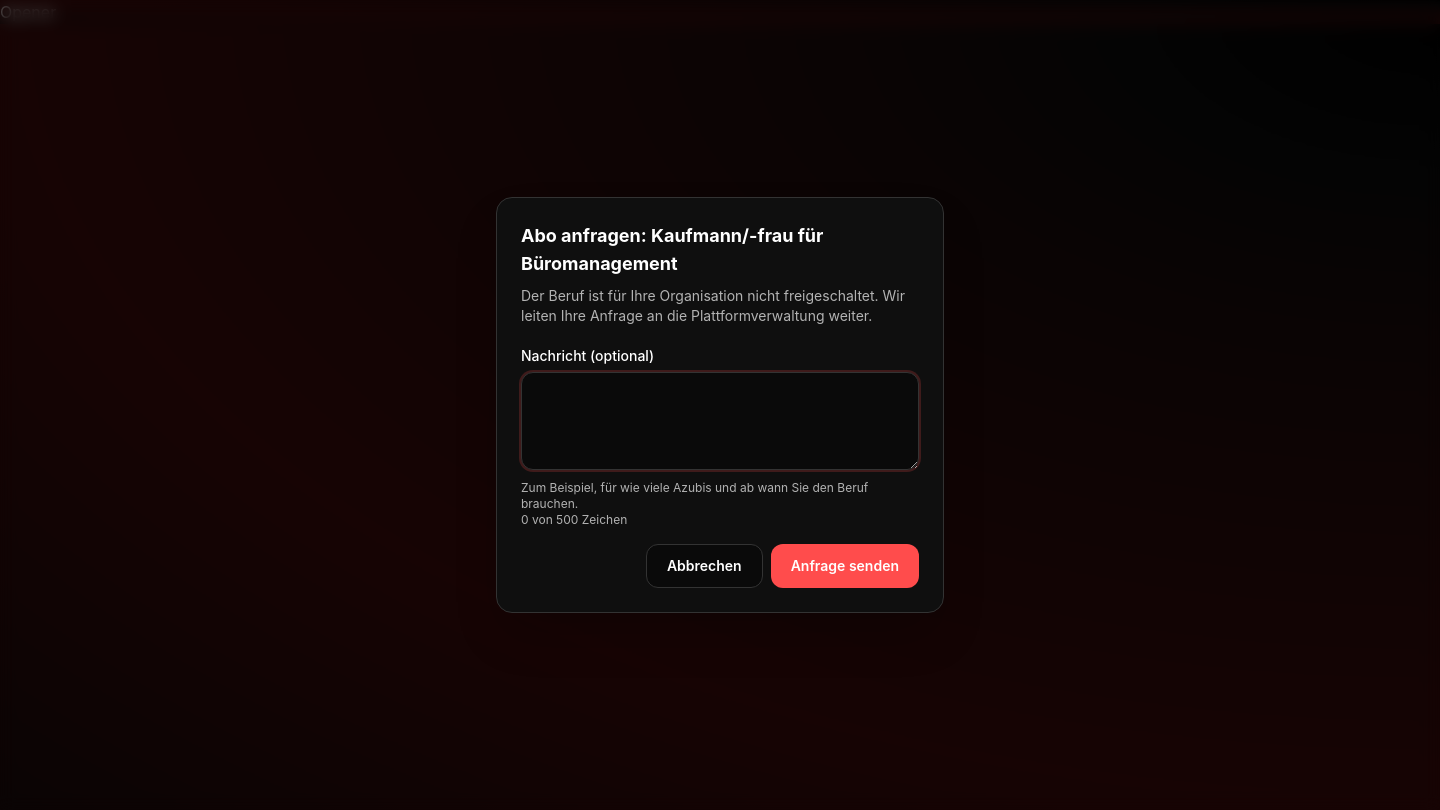
Test: CatalogRequestDialog › sending › tells the person when the same request is already open
Click the button "Anfrage senden" at (845, 566), box [771,544,919,588]
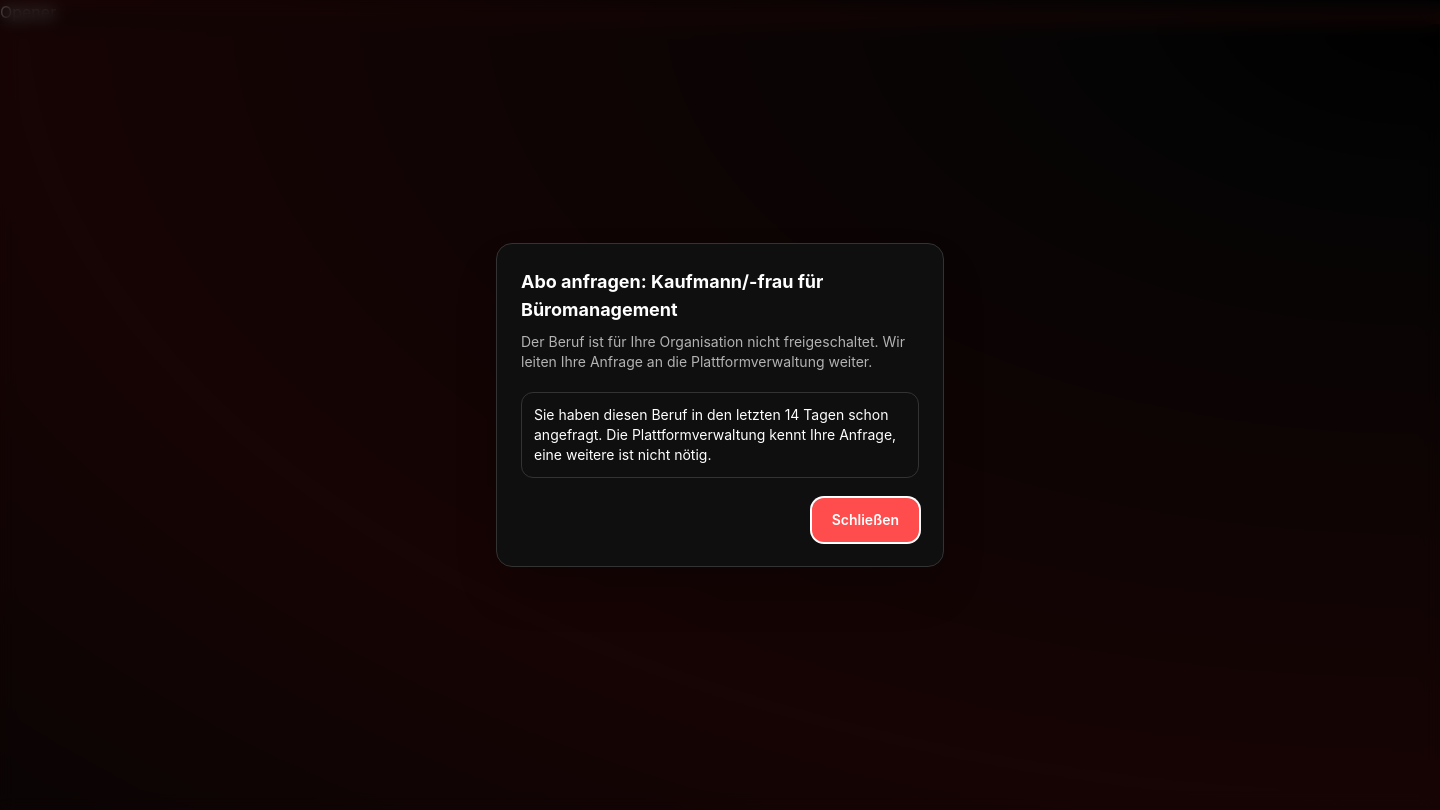
Expected: the message shows "Sie haben diesen Beruf in den letzten 14 Tagen schon angefragt.", [534,406,896,463]
